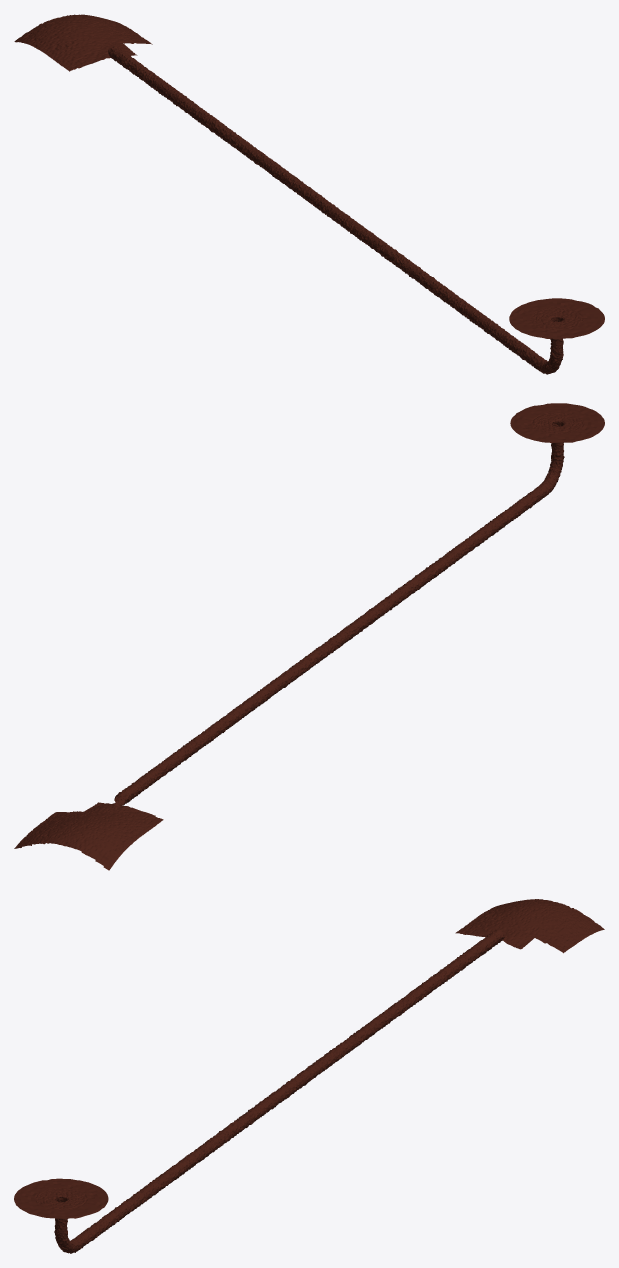
Rendered from FullCave.fbx.
3 renders of one model, top to bottom at view 1: azimuth 30°, elevation 25°; view 2: azimuth 150°, elevation 25°; view 3: azimuth 330°, elevation 25°, orthographic.
Visible parts, largest first — view 1: Cave.006; view 2: Cave.006; view 3: Cave.006.
Boxes of the visible parts, x1,y1,x2,y2 form: Cave.006: [14, 14, 604, 374]; Cave.006: [14, 403, 604, 870]; Cave.006: [14, 899, 604, 1253].
Bounding box in the file's own units: 1150 × 902 × 10761.
